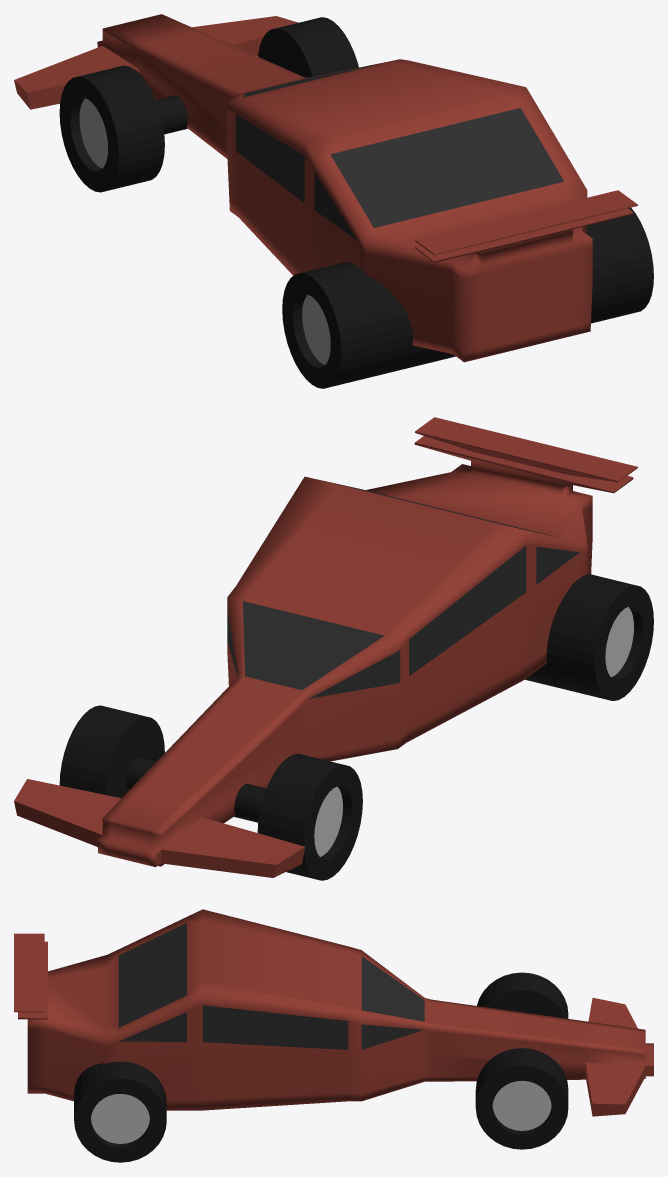
File: racecar.gltf
The picture shows the model from 3 angles, top to bottom: view 1: azimuth 30°, elevation 25°; view 2: azimuth 150°, elevation 25°; view 3: azimuth 270°, elevation 25°; orthographic projection. The views are drawn at different scales.
Parts seen in each view (by area): view 1: Cube, Cube.001; view 2: Cube, Cube.001; view 3: Cube, Cube.001.
Boxes of the visible parts, x1=… form: Cube: x1=14, y1=14, x2=637, y2=362; Cube.001: x1=59, y1=17, x2=653, y2=388; Cube: x1=14, y1=417, x2=637, y2=877; Cube.001: x1=59, y1=573, x2=653, y2=880; Cube: x1=14, y1=909, x2=653, y2=1116; Cube.001: x1=74, y1=972, x2=568, y2=1162.
Bounding box in the file's own units: 1.83 × 1.08 × 4.14.
